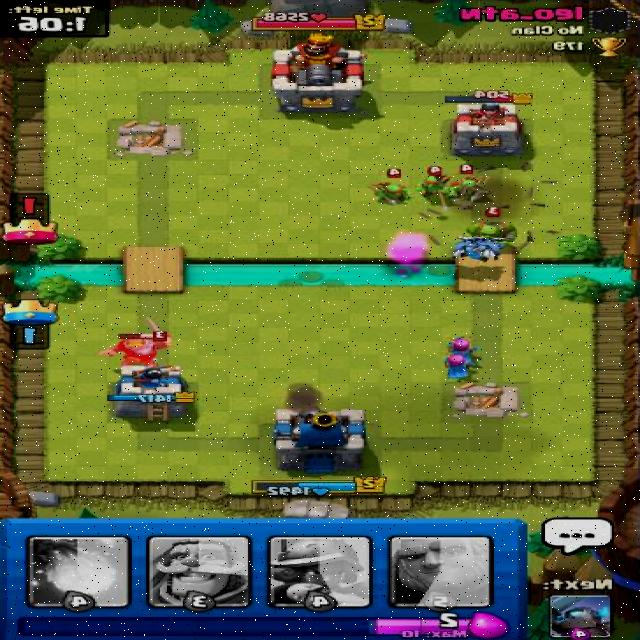Enemy-Brawler: (462, 204, 517, 254)
Enemy-Knight: (96, 312, 178, 369)
Enemy-SpearGoblin: (364, 166, 417, 208), (443, 162, 494, 203), (412, 163, 461, 200)
Player-Archer: (436, 333, 482, 367), (439, 347, 476, 382)
Player-Minion: (464, 229, 500, 264), (441, 234, 482, 262), (476, 234, 514, 260)
